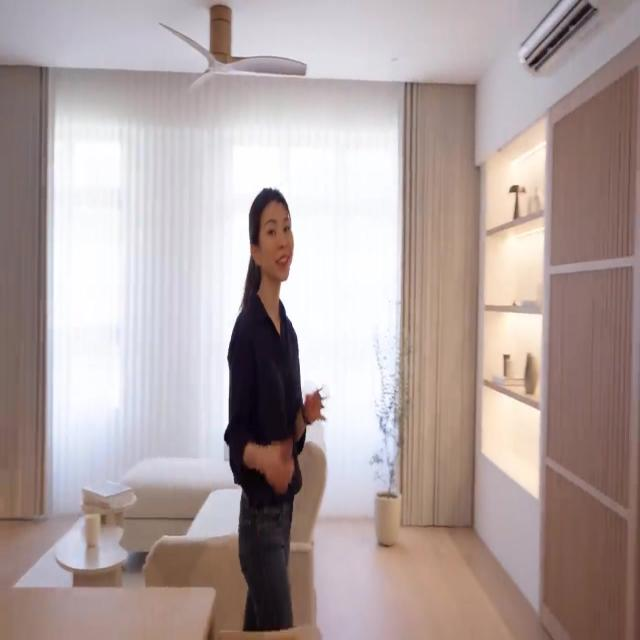door: (539, 38, 639, 638)
obstacle: (141, 439, 327, 638)
person: (224, 187, 326, 631)
